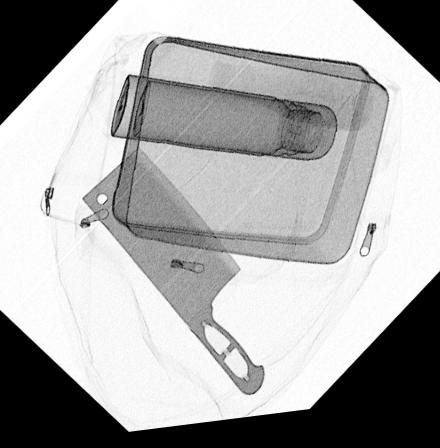Knife: (78, 147, 266, 404)
